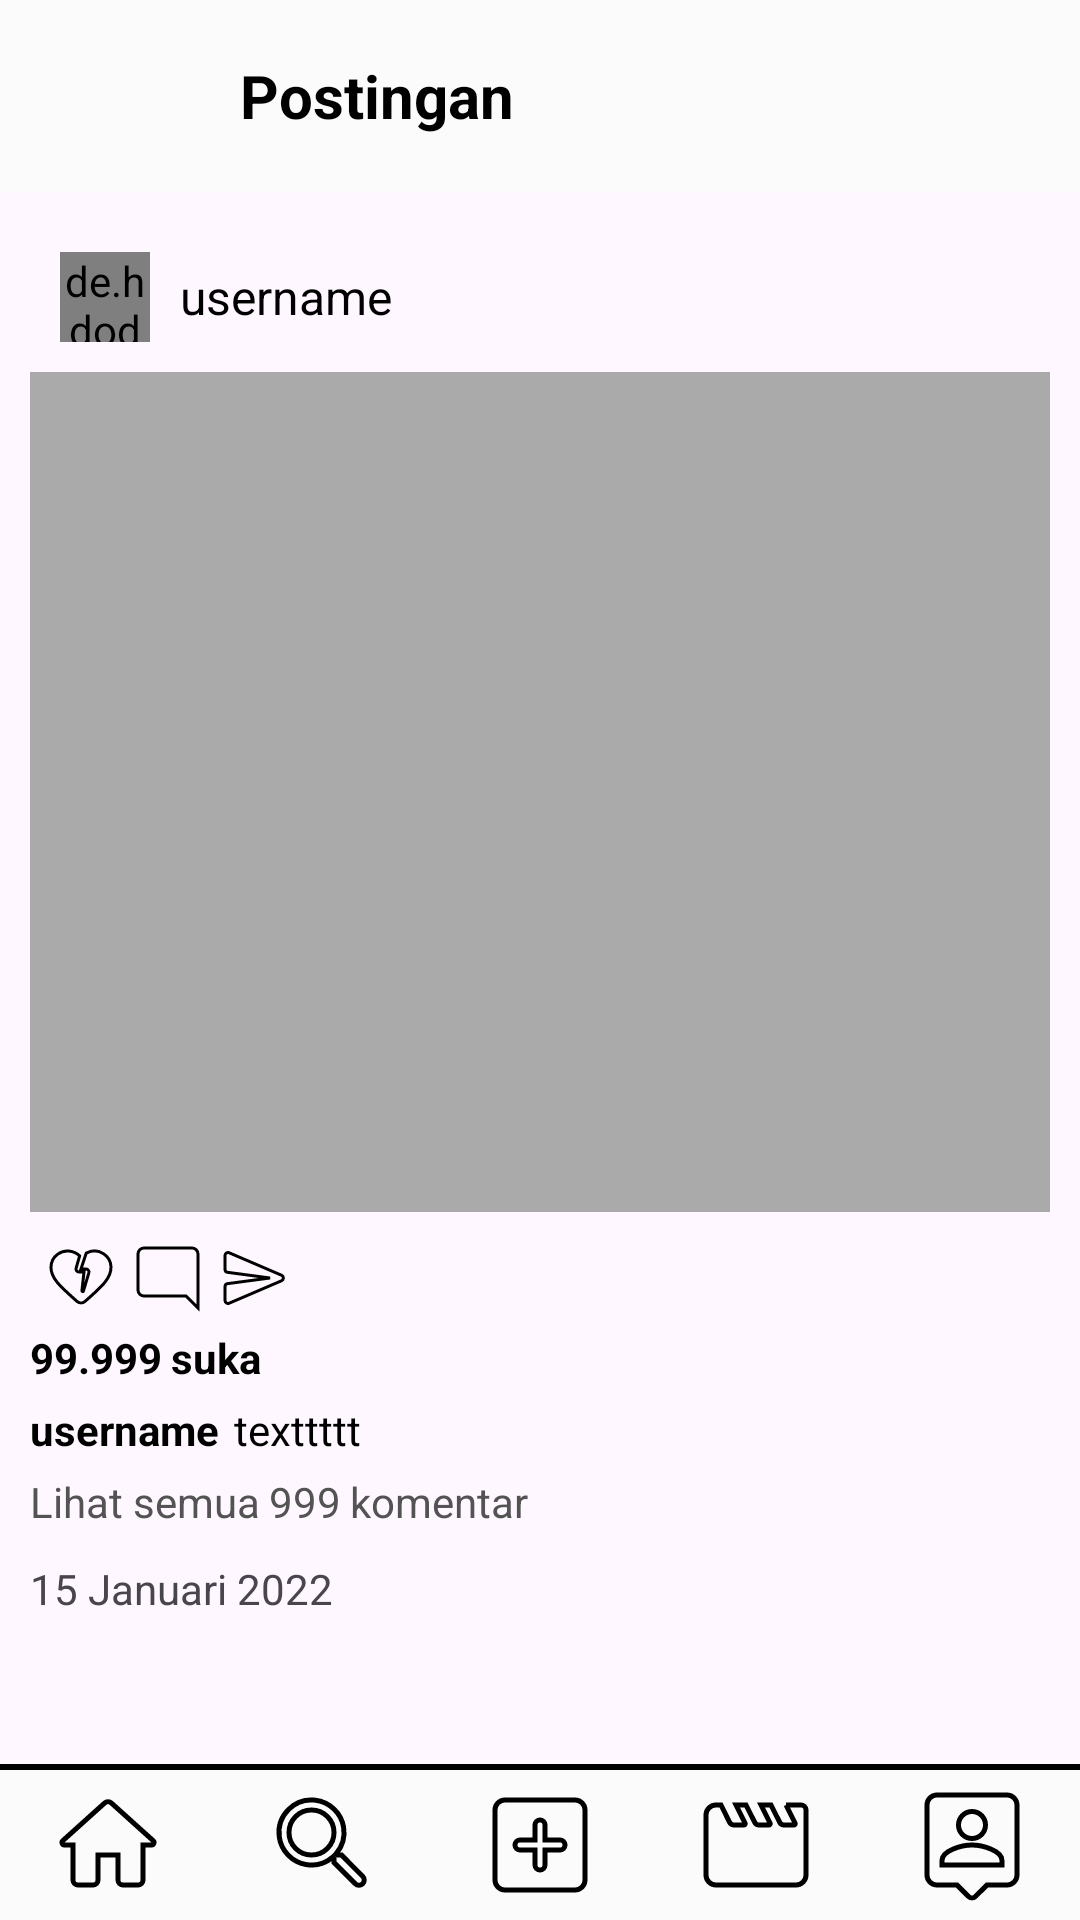

Icon bounding boxes for this 1080×1920 phone screenshot, format (x1, y1, x2, y2):
post comment: (136, 1246, 200, 1312)
post send: (223, 1251, 285, 1305)
